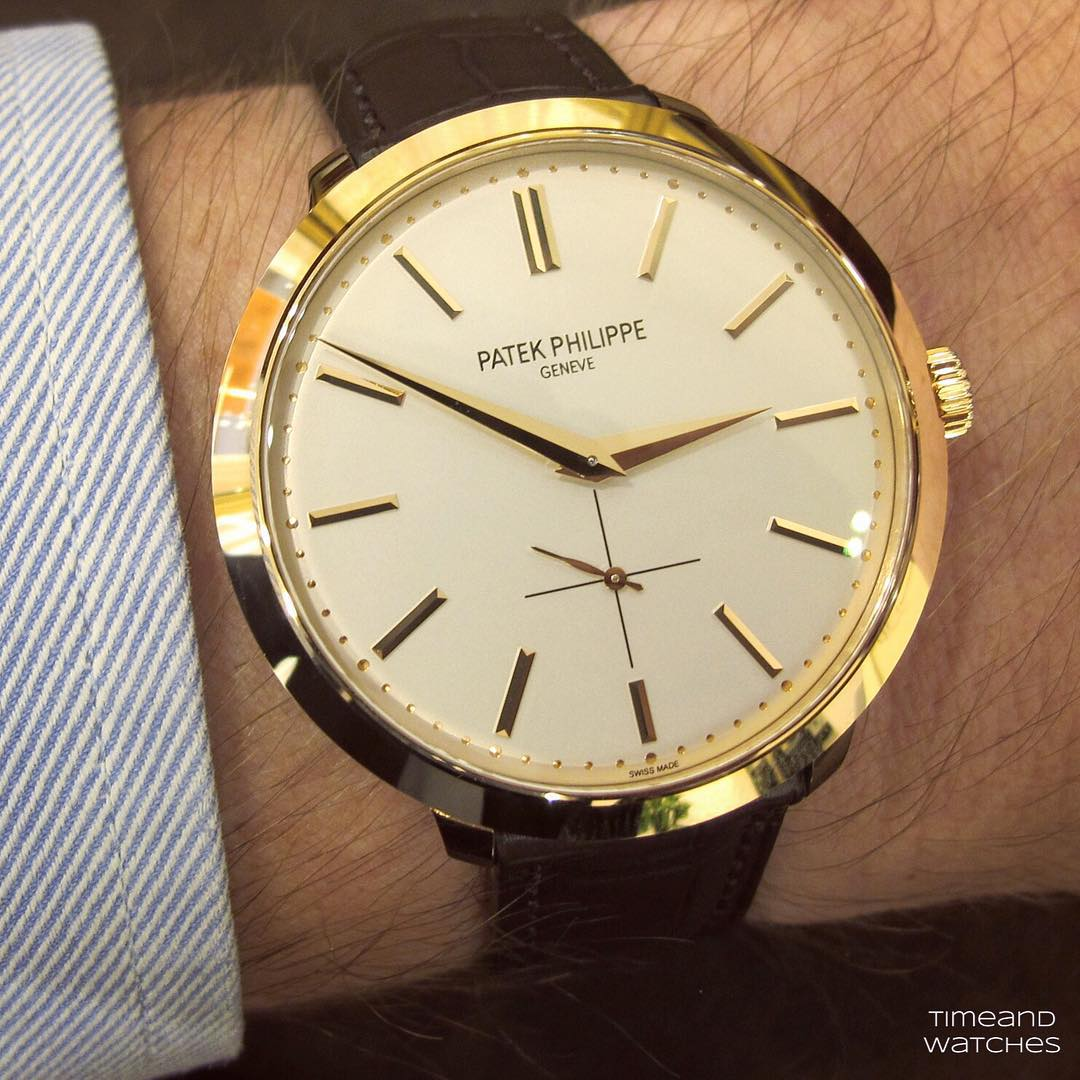clock: (263, 147, 901, 791)
